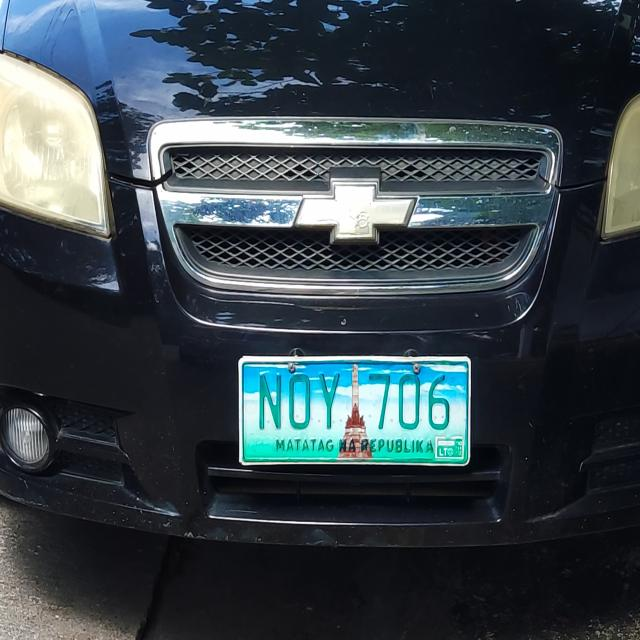plate: (236, 352, 474, 469)
